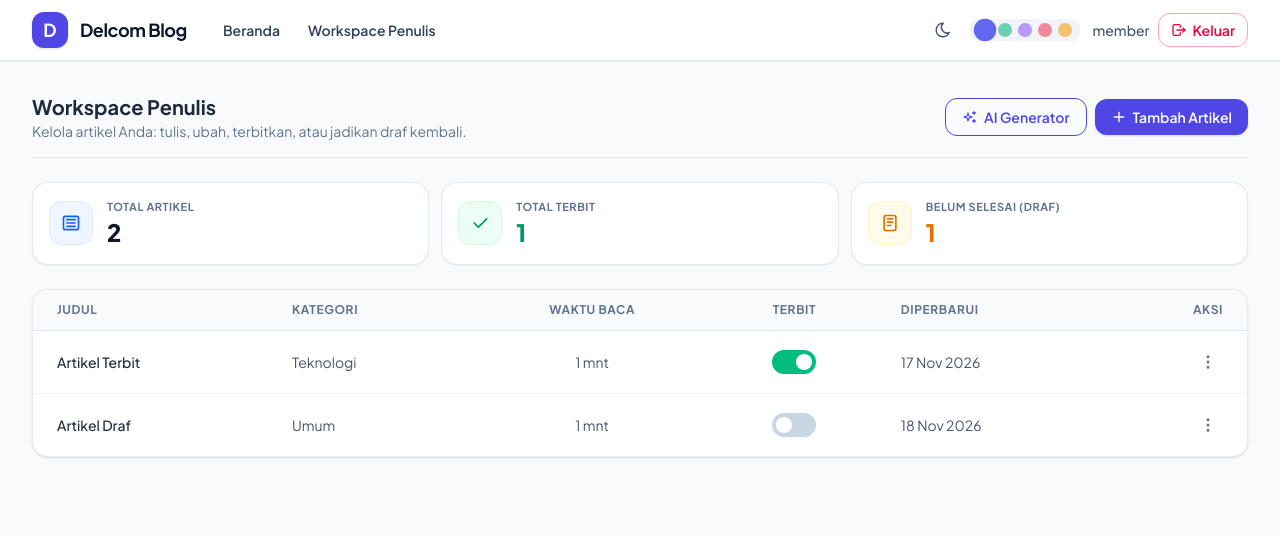
App › workspace penulis › men-toggle status terbit/draf
Click the switch named "Terbitkan Artikel Draf": {"x": 794, "y": 424} [772,412,816,436]
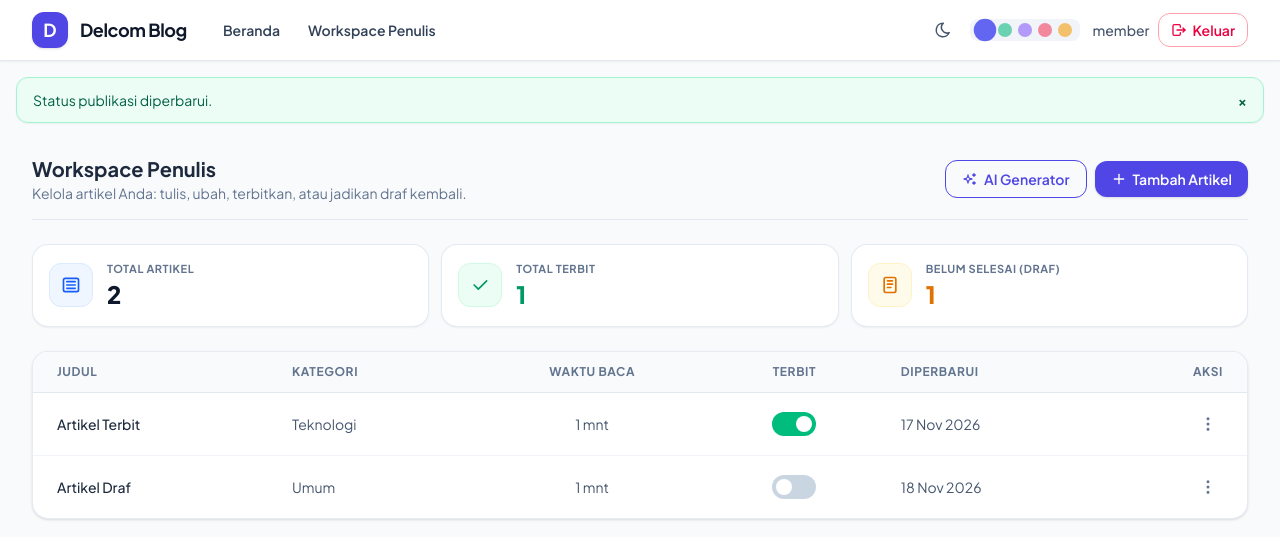
Check: the text "Status publikasi diperbarui." is shown, box [33,90,212,110]
